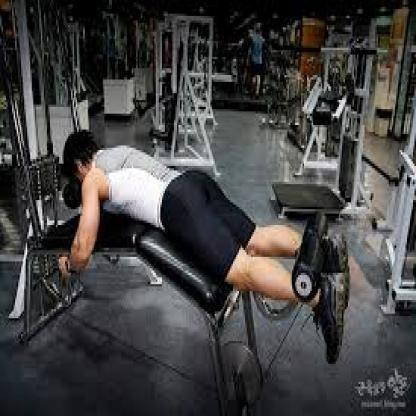reg curl machine: (13, 117, 370, 375)
